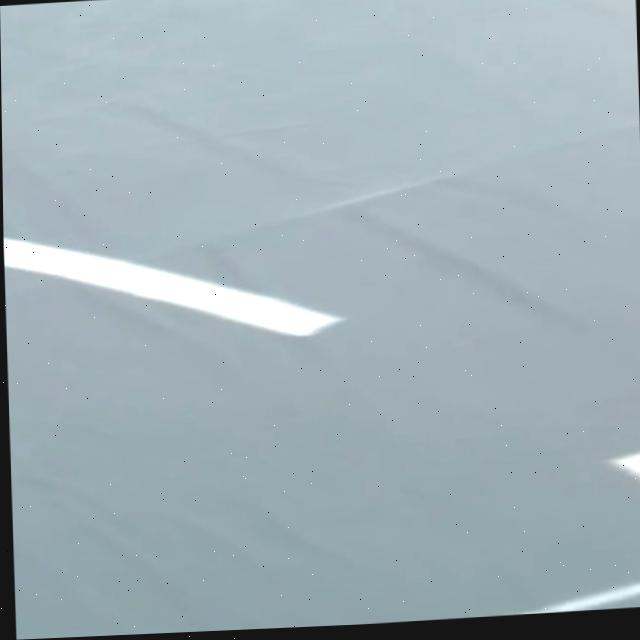center: (4, 238, 342, 336), (607, 452, 640, 479)
